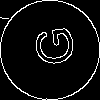G: (25, 25, 76, 69)
